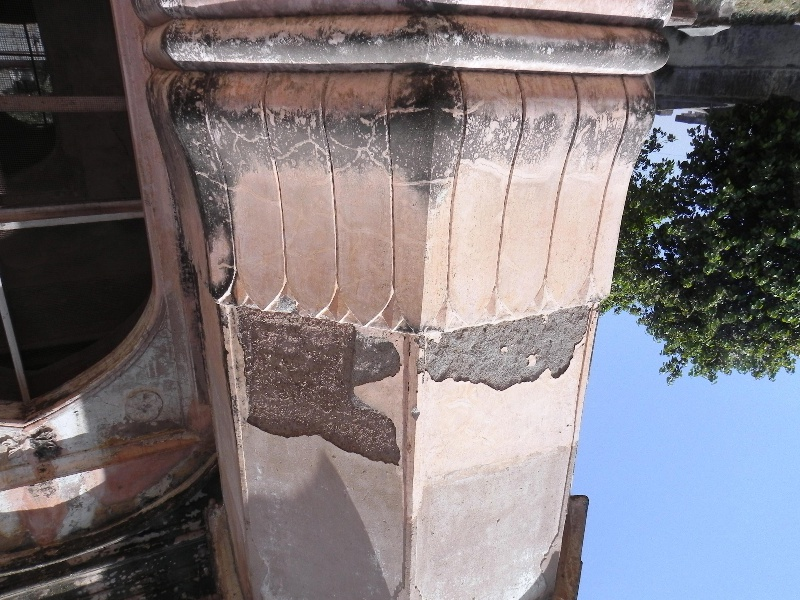Spalling: (220, 290, 409, 469), (417, 292, 588, 395)
